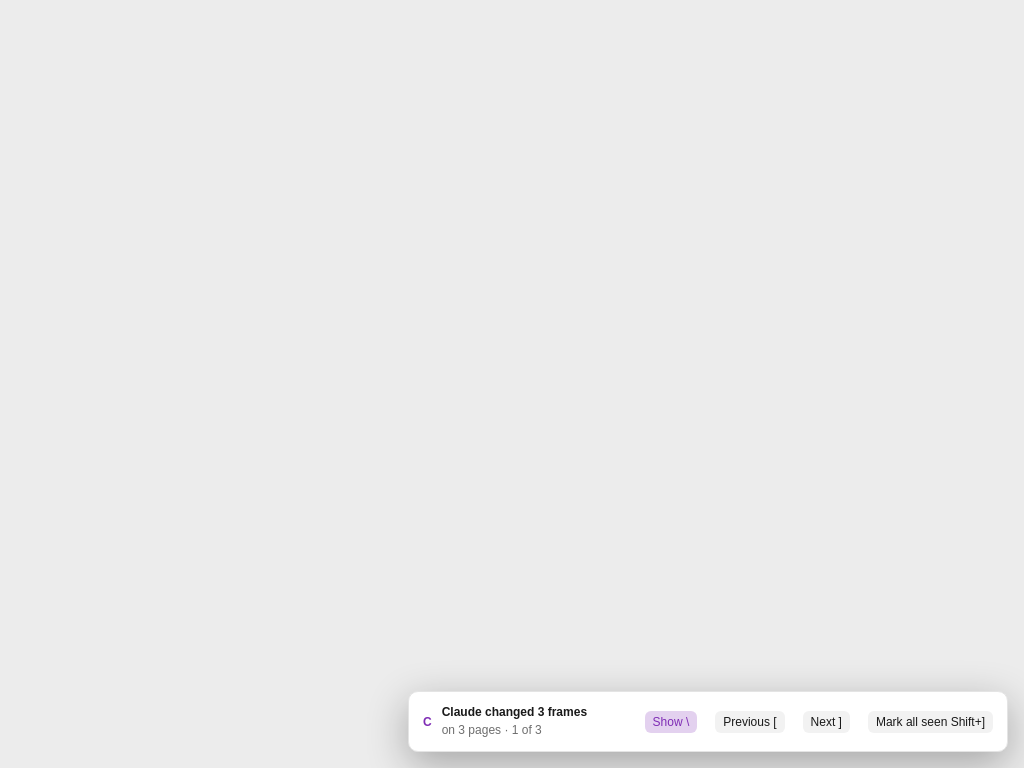
Scenario: ChangesToast › mark all seen › keeps Undo on screen when a change lands after the clear
Click the button "Mark all seen Shift+]".
click(930, 722)  # box x1=868 y1=710 x2=993 y2=732
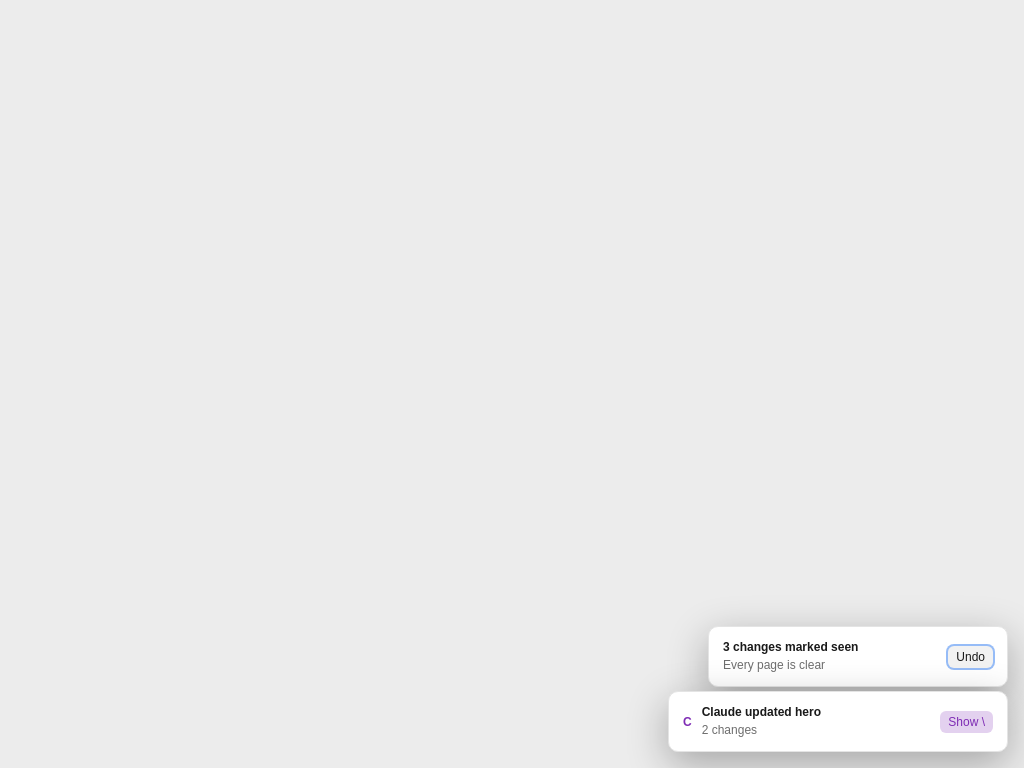
Expected: the heading "3 changes marked seen" is shown, x1=723 y1=640 x2=858 y2=654
Expected: the heading "Claude updated hero" is shown, x1=702 y1=705 x2=821 y2=719
Expected: the button "Undo" is shown, x1=948 y1=646 x2=993 y2=668
